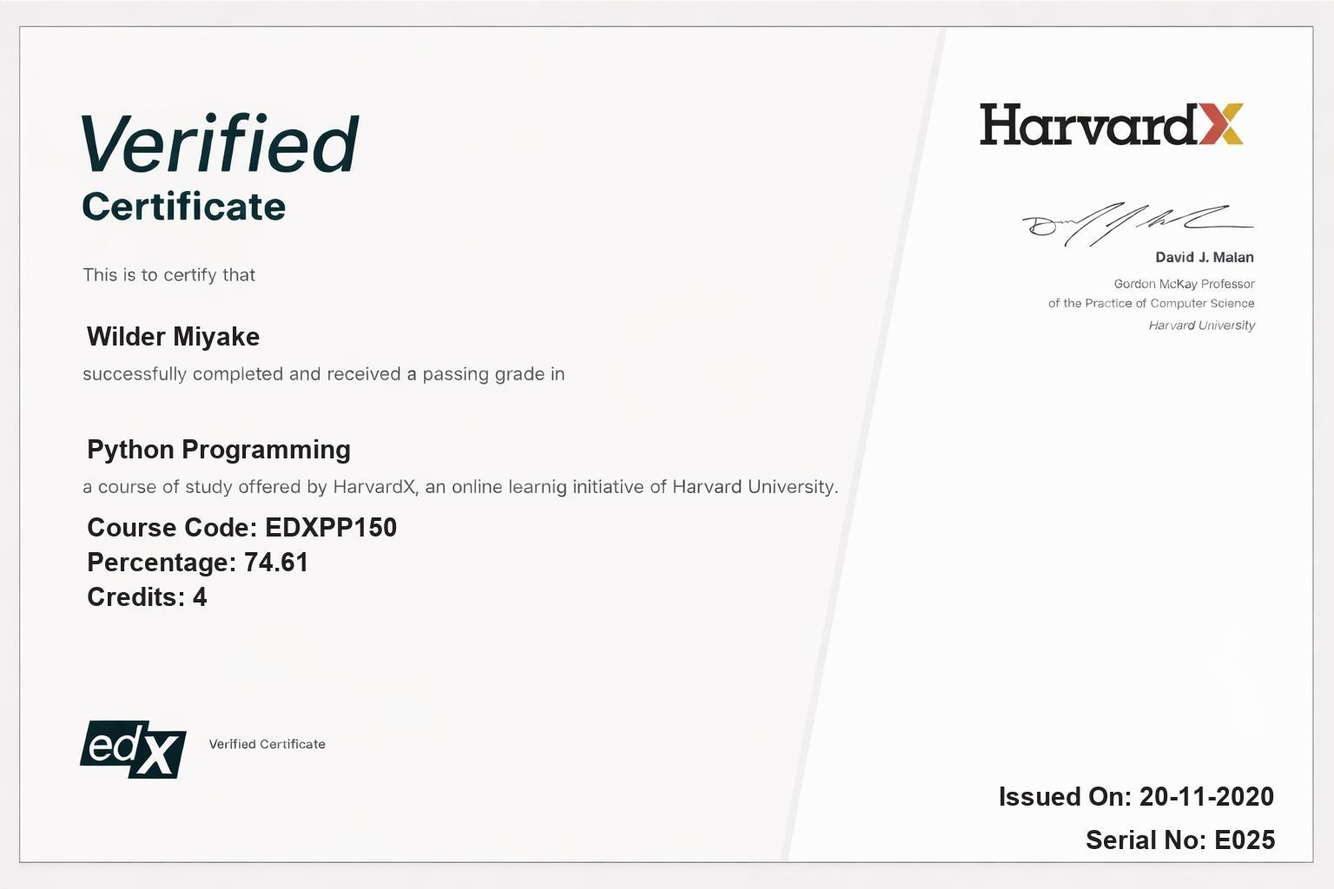Course Code: (259, 504, 402, 547)
Course Name: (77, 422, 359, 474)
Credits: (188, 579, 220, 615)
Issued On: (1136, 779, 1284, 820)
Percentage: (242, 543, 322, 582)
Serial No: (1207, 822, 1289, 859)
Student Name: (78, 314, 273, 360)
